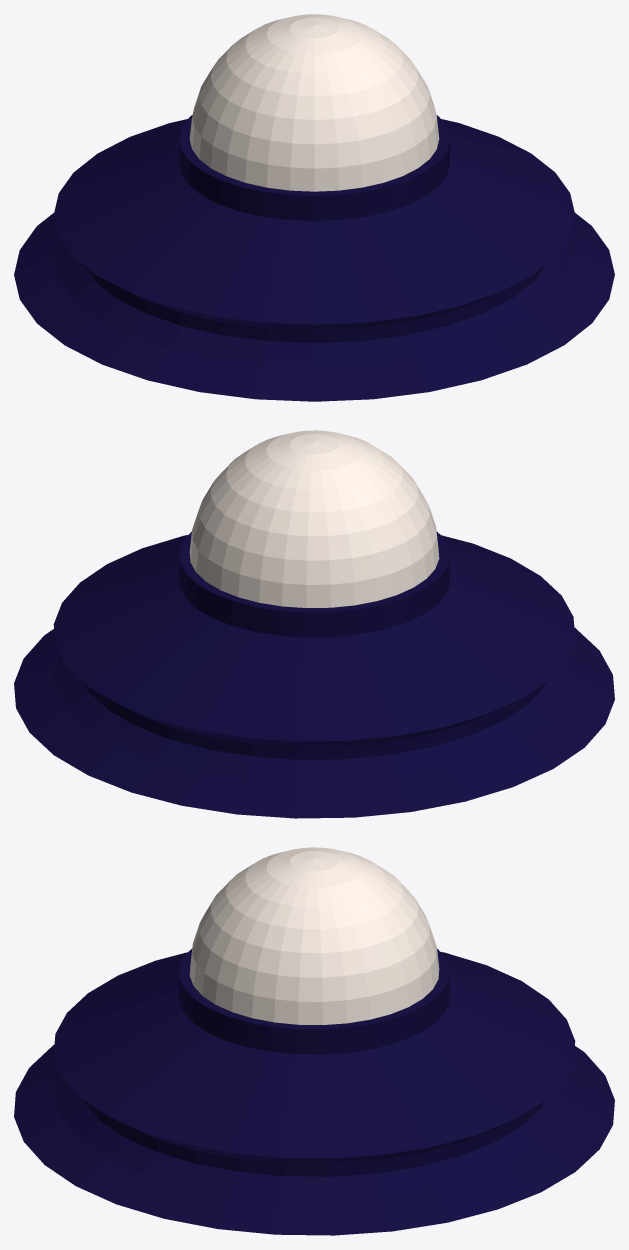
Rendered from Ufo.fbx.
3 views of the same model, one above another, from view 1: azimuth 30°, elevation 25°; view 2: azimuth 150°, elevation 25°; view 3: azimuth 270°, elevation 25° (orthographic).
Visible parts, largest first — view 1: Cylinder; view 2: Cylinder; view 3: Cylinder.
Part boxes in pixels (box(x1,y1,x2,y2)): Cylinder: box(14, 14, 614, 401); Cylinder: box(14, 430, 614, 818); Cylinder: box(14, 847, 614, 1235).
Size of the model in its own units: 589 by 317 by 589.
